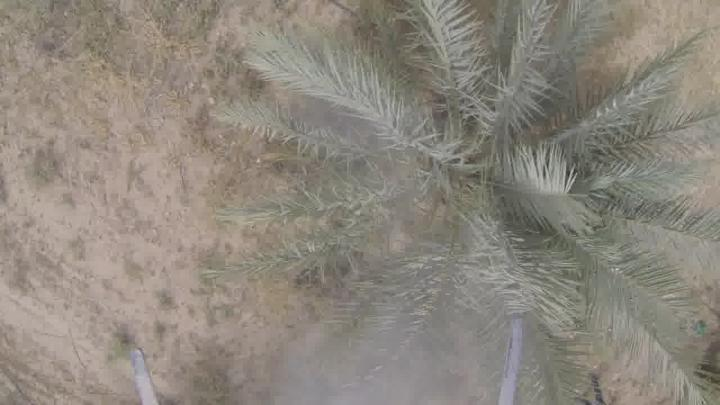Date-Palm-Crown: (329, 29, 631, 341)
